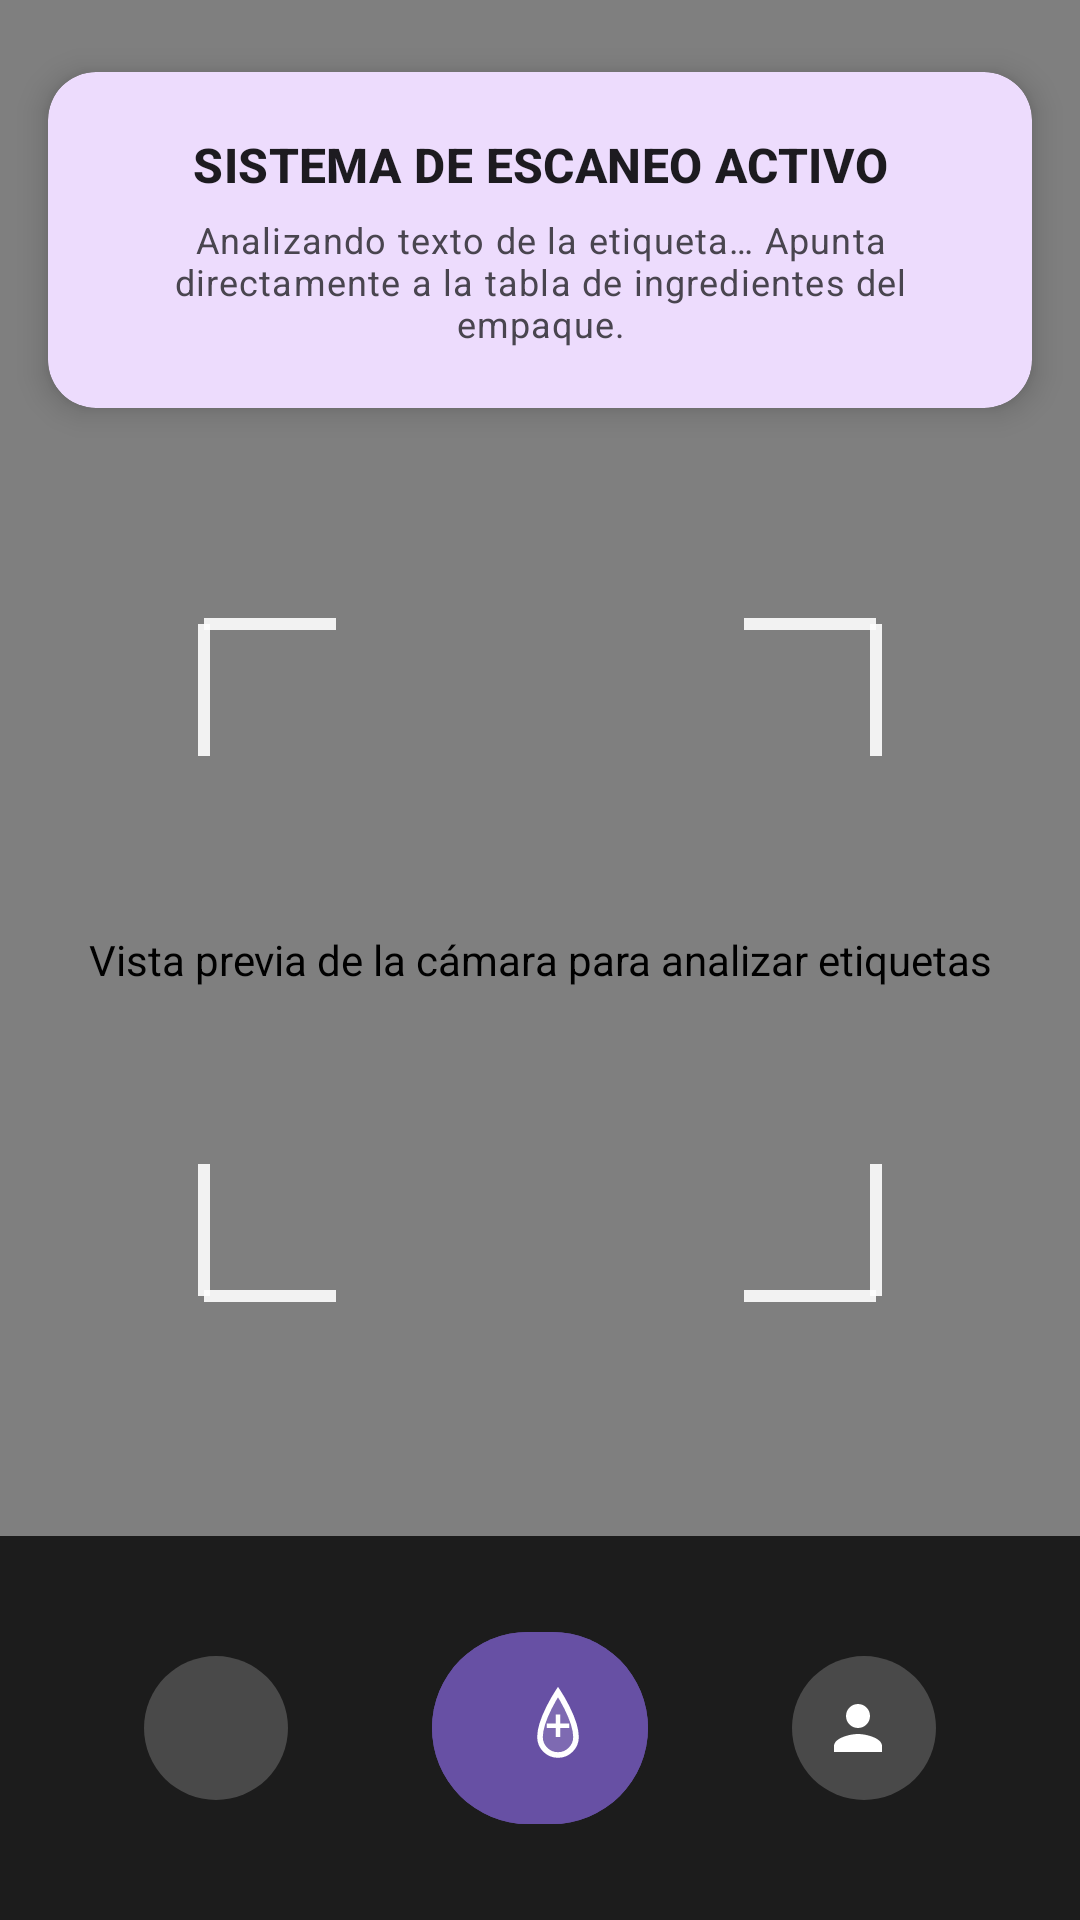

Screen size 1080x1920. Icon name, then its box in pixels as (x1, y1, x2, y2):
Ir a mi perfil: (792, 1656, 936, 1800)
